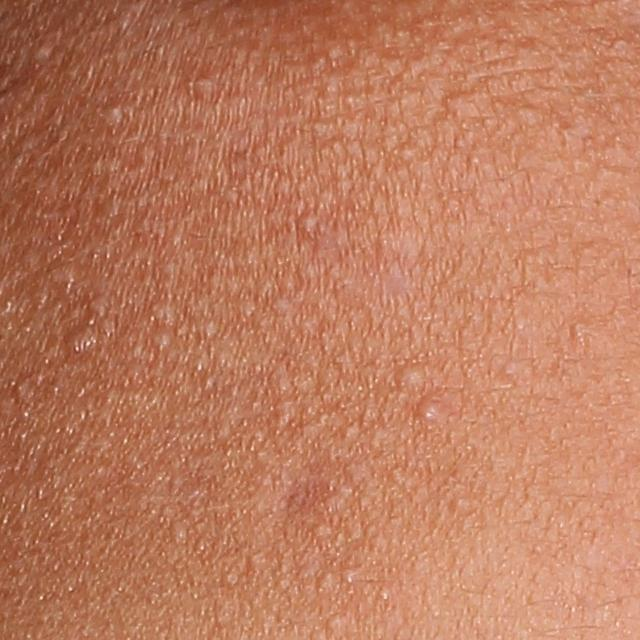comedo: (394, 364, 429, 393), (84, 292, 114, 321), (298, 207, 322, 238), (65, 330, 91, 358), (416, 398, 445, 423), (26, 40, 52, 63), (149, 302, 174, 325), (193, 74, 214, 98), (449, 495, 472, 515), (168, 518, 186, 542), (501, 359, 519, 377), (326, 611, 342, 631)
